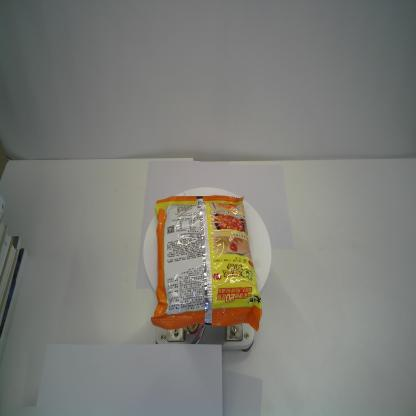Instant Noodles: (150, 194, 263, 333)
